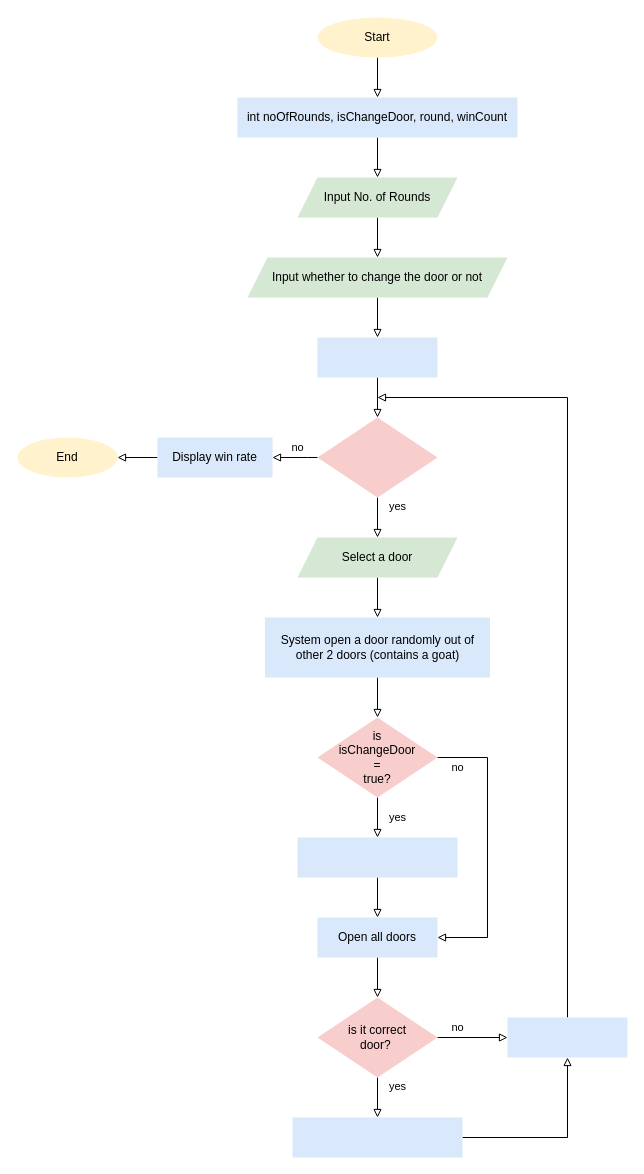
This 644x1174 diagram has some shape labels left out. The shapes that lost their labels are listed below. From the top down, each one's box as (x1, y1, x2, y2) in pixels, then its label:
(317, 337, 437, 377): Press Start
(317, 417, 437, 497): is noOfRounds >= round?
(297, 837, 457, 877): Change the selected door
(507, 1017, 627, 1057): round = round + 1
(292, 1117, 462, 1157): winCount = winCount + 1
